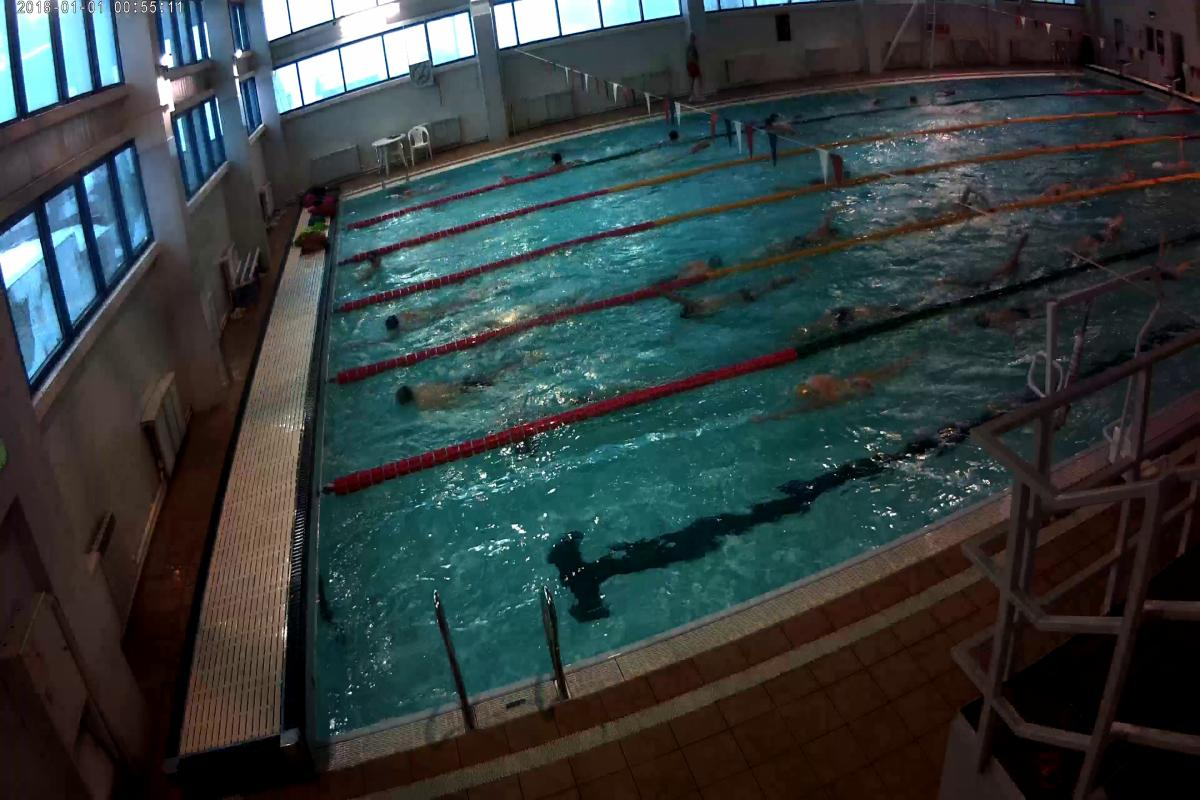swimmer: (763, 346, 920, 423), (794, 295, 907, 338), (384, 377, 506, 414), (769, 206, 864, 246), (383, 296, 463, 340), (971, 292, 1037, 343), (1070, 209, 1123, 252), (651, 254, 727, 280), (928, 180, 991, 210)
